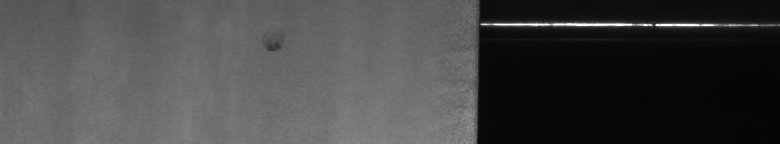fi: (263, 40, 284, 60)
